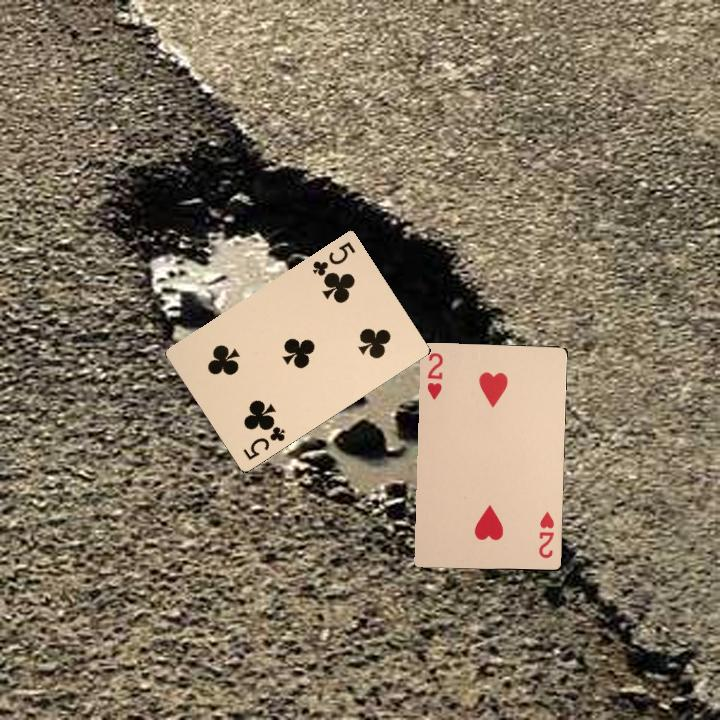2h: (423, 349, 446, 402), (535, 508, 556, 561)
5c: (239, 420, 288, 463), (309, 237, 358, 279)
